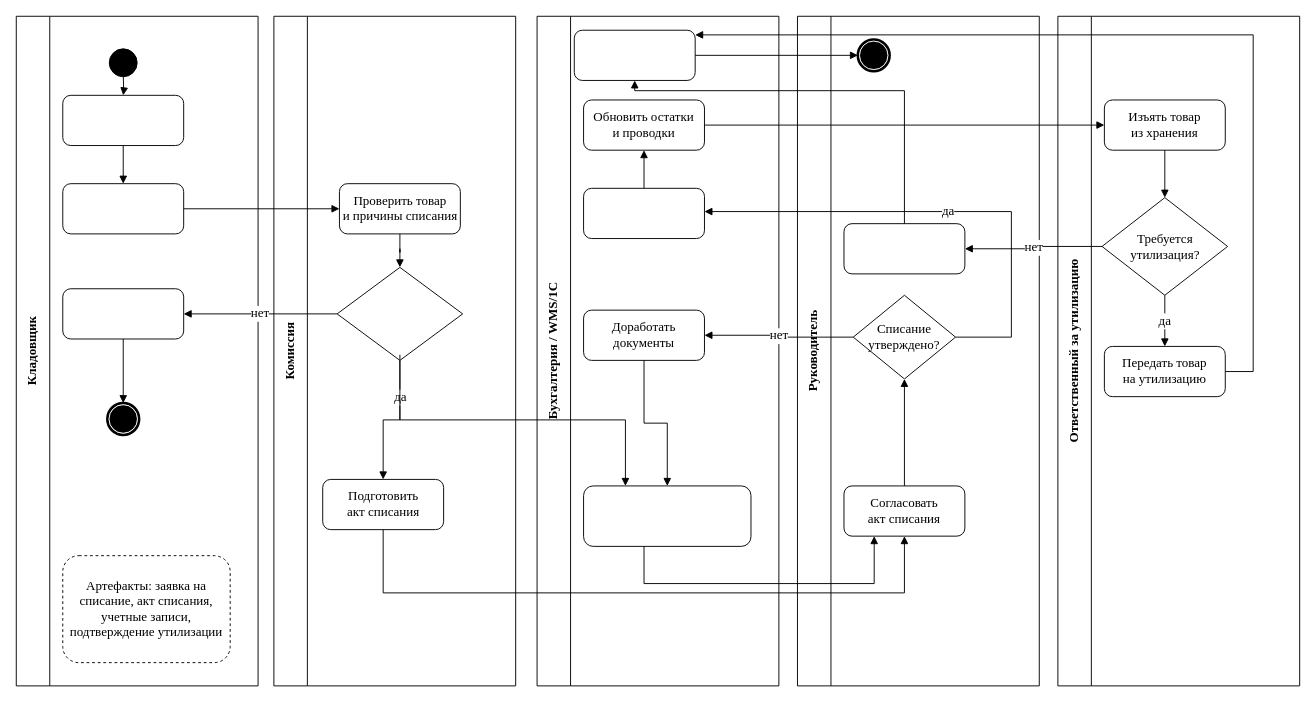
Image size: 1316x702. Some labels were removed from this diagram. The centre of each missing label's shape, as x and y in pixels:
"Архивировать документы" belongs at point 634,54.
"Внести операцию в WMS/1C" belongs at point 643,213.
"Выявить товар для списания" belongs at point 123,120.
"Основания подтверждены?" belongs at point 399,313.
"Отклонить заявку и вернуть товар в оборот" belongs at point 123,313.
"Передать в возврат или реализацию как брак" belongs at point 904,248.
"Рассчитать стоимость и учетные последствия" belongs at point 667,515.
"Сформировать заявку на списание" belongs at point 123,208.
